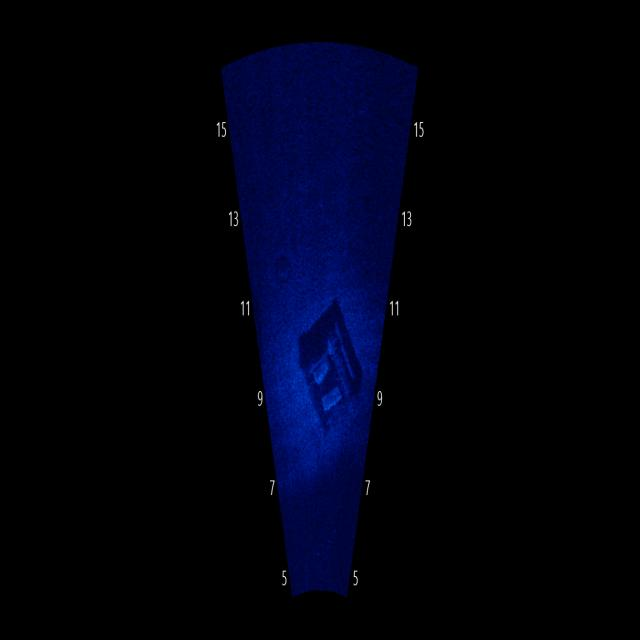circle: (271, 243, 304, 301)
square: (292, 296, 371, 438)
